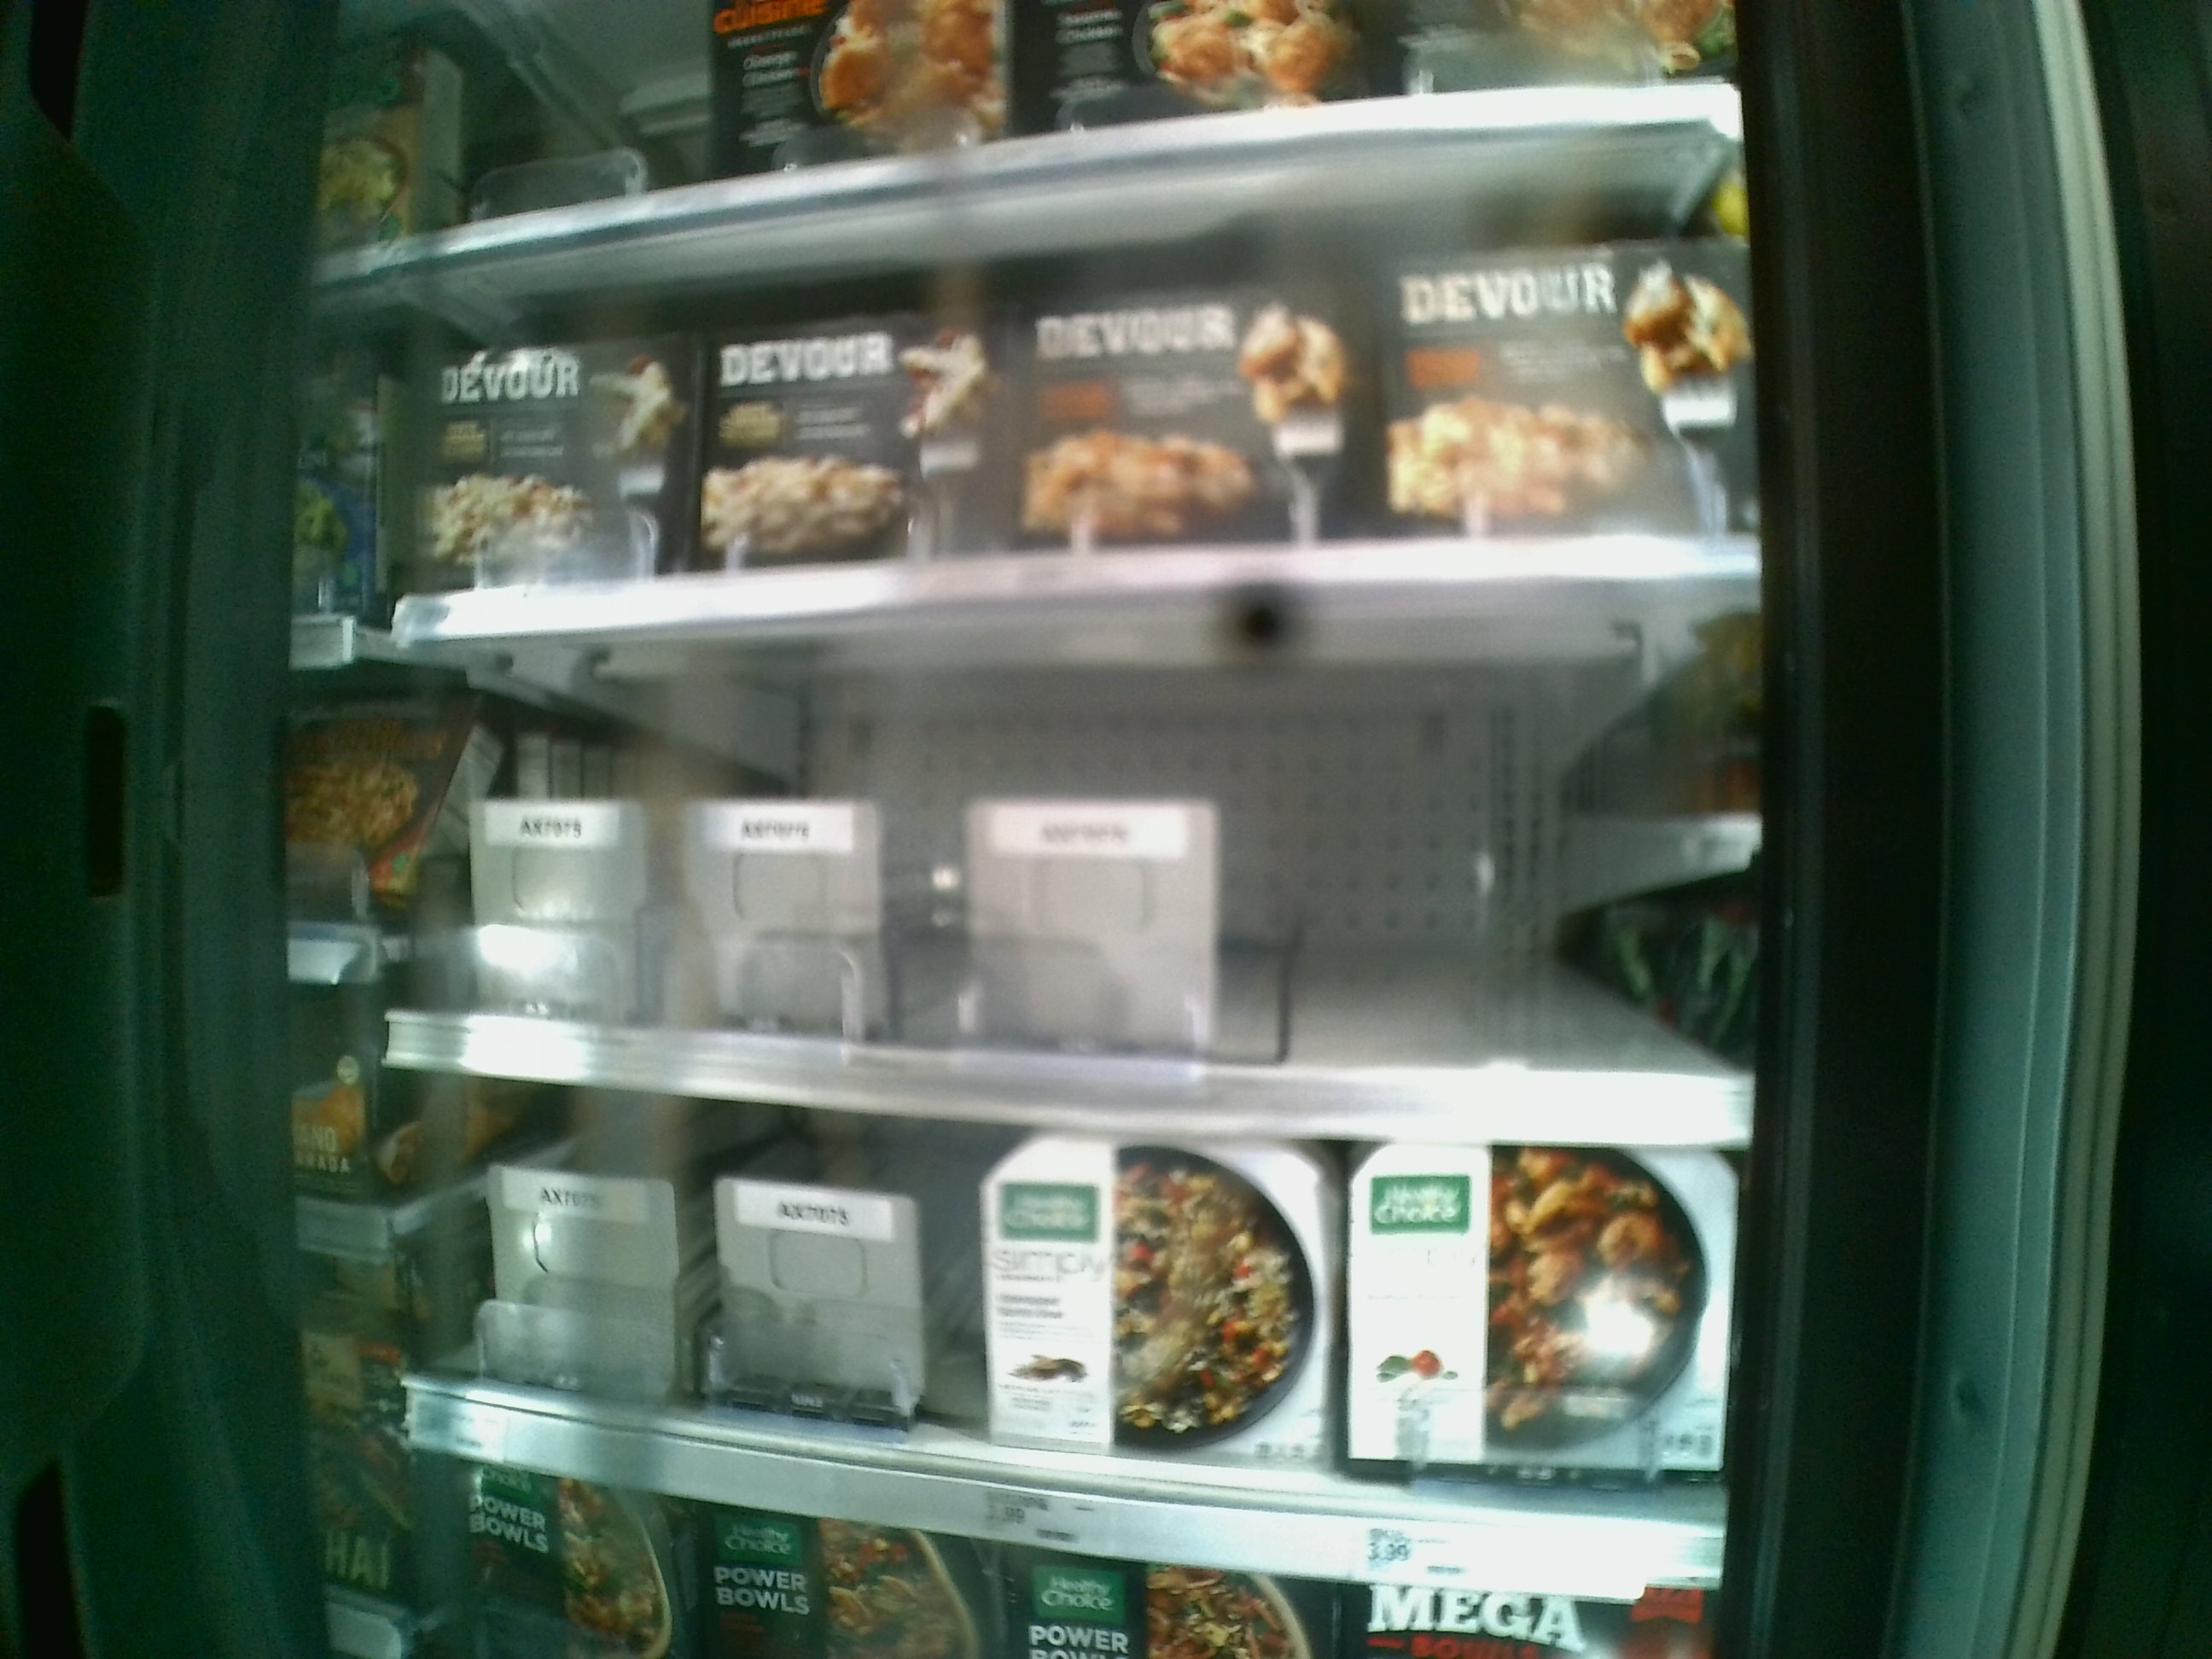Shelf: (388, 638, 1759, 1145)
